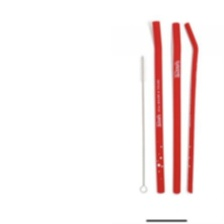drinking_straw: (148, 16, 167, 195), (182, 19, 201, 196), (170, 19, 184, 195)
